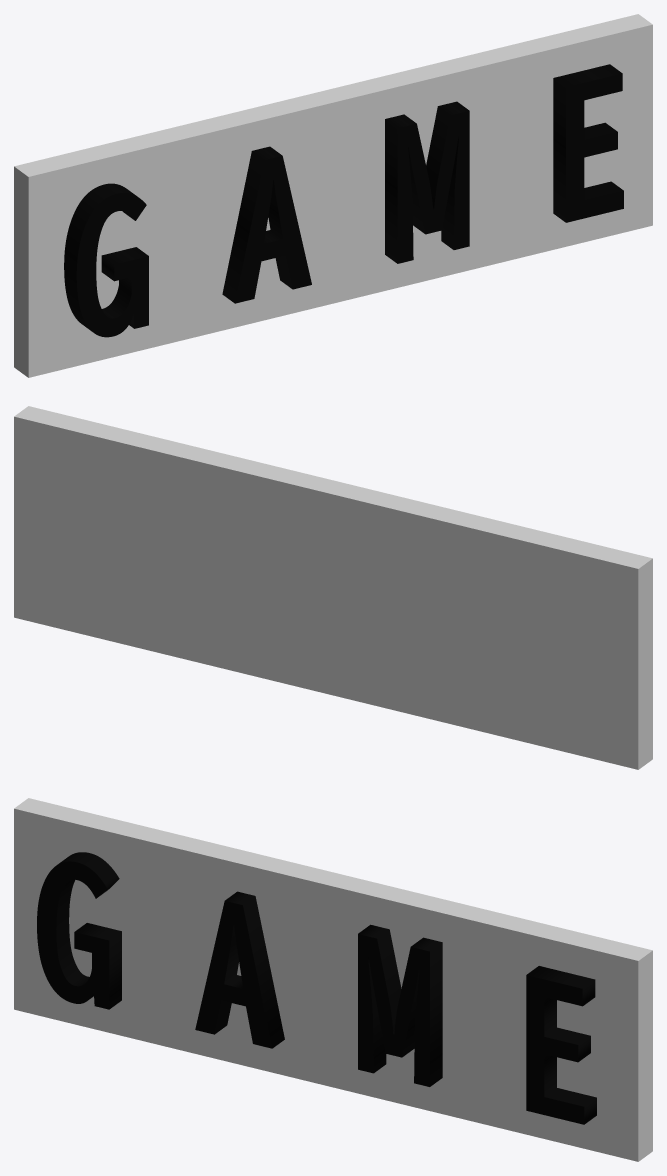
The model's file is GSGameSelect.fbx.
3 renders of one model, top to bottom at view 1: azimuth 30°, elevation 25°; view 2: azimuth 150°, elevation 25°; view 3: azimuth 330°, elevation 25°, orthographic.
Visible parts, largest first — view 1: 立方体, テキスト; view 2: 立方体; view 3: 立方体, テキスト.
Boxes of the visible parts, x1,y1,x2,y2 form: 立方体: (14,14,652,377); テキスト: (64,64,623,337); 立方体: (14,406,652,769); 立方体: (14,798,652,1161); テキスト: (37,852,596,1124).
Size of the model in its own units: 443 by 136 by 33.35.
Materials: 2 (1 with a texture image).
